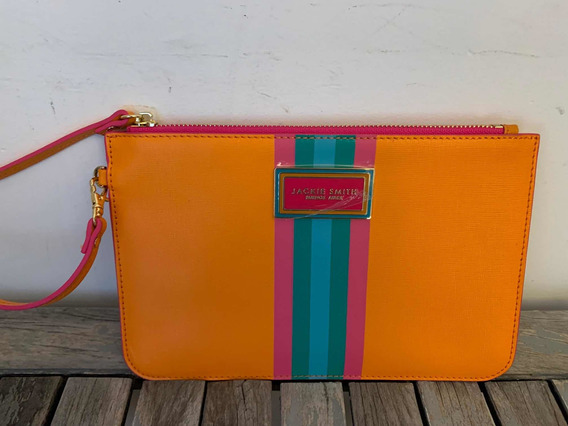cartera: (78, 107, 542, 385)
